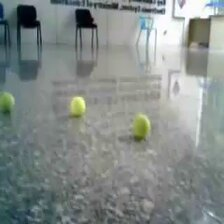tennis: (132, 113, 151, 138), (68, 96, 86, 116), (1, 91, 16, 112)
